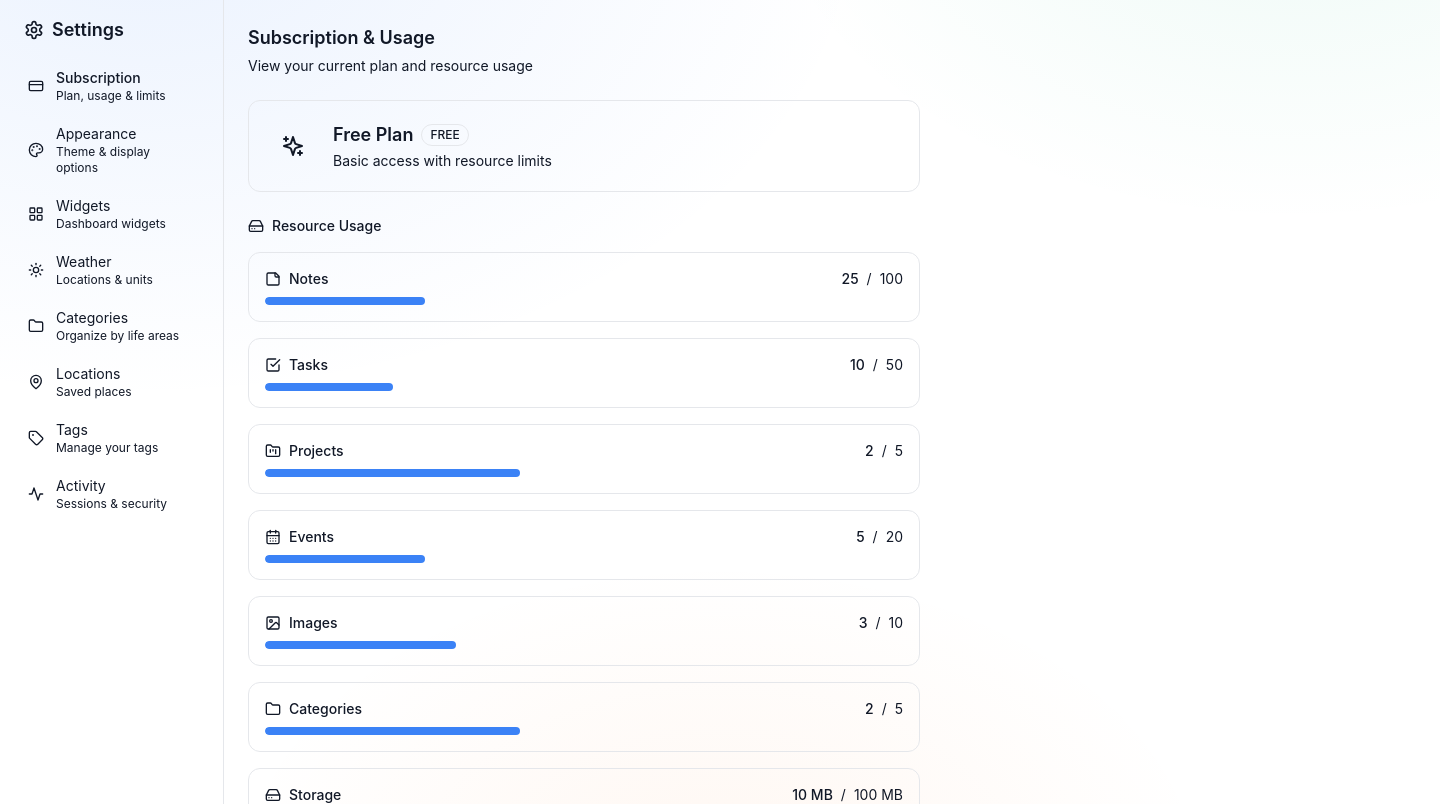
Test case: SettingsPage › Desktop Navigation › can switch between sections on desktop
This screenshot has width=1440, height=804.
// Click on Appearance section in desktop nav
Click the button "Appearance Theme & display options". click: (112, 150)
box: [16,116,207,184]
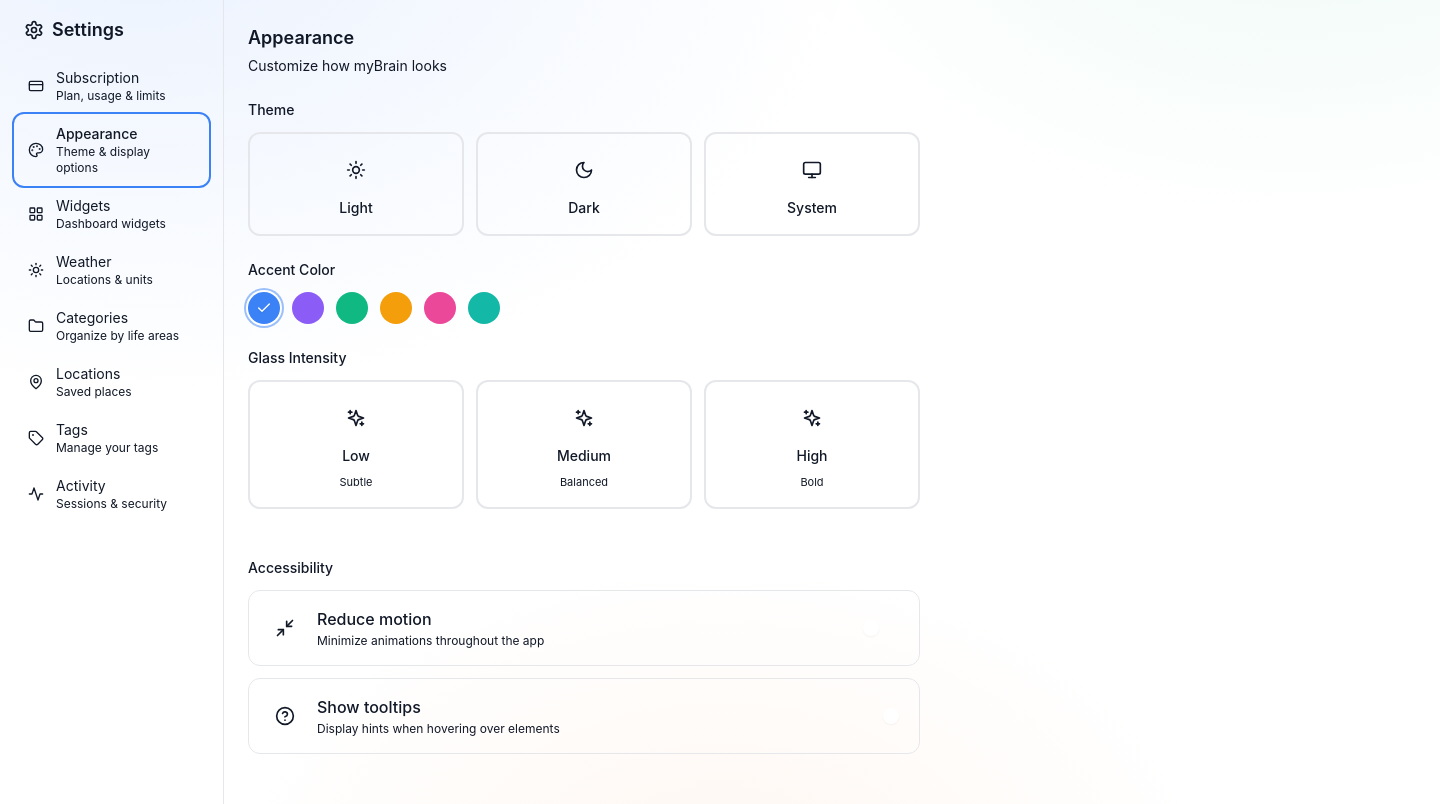
Result: the text "Customize how myBrain looks" is shown at [248,57,447,74]
